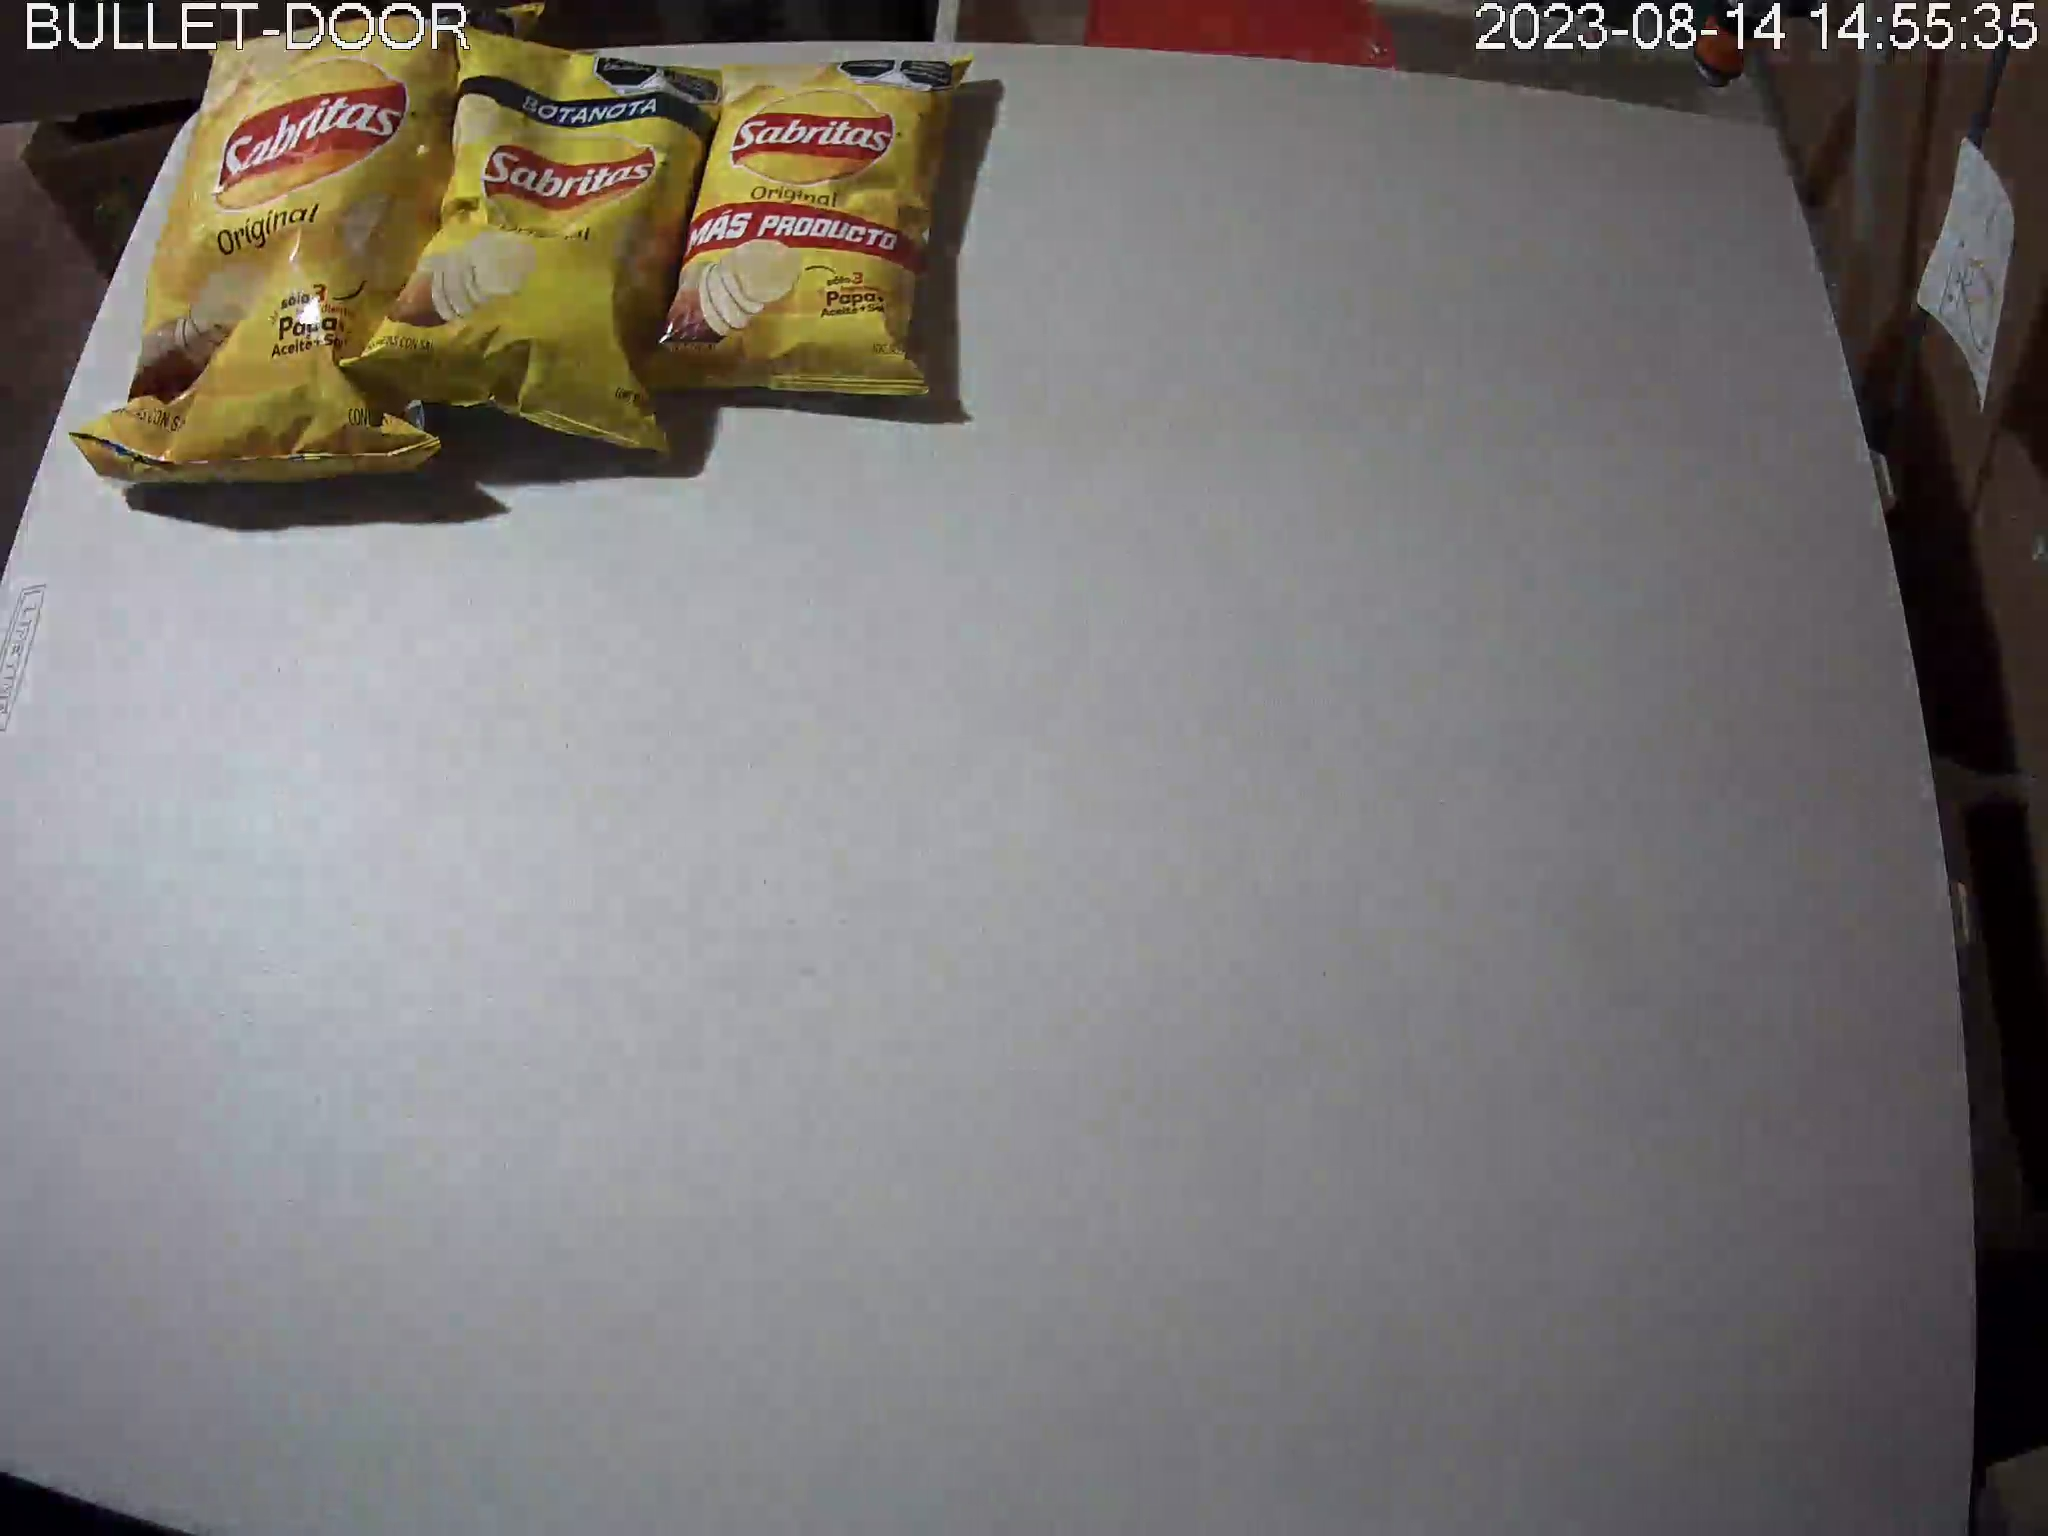Sabritas_160_F: (71, 6, 543, 482)
Sabritas_45_F: (634, 52, 979, 399)
Sabritas_64_F: (339, 23, 739, 461)
